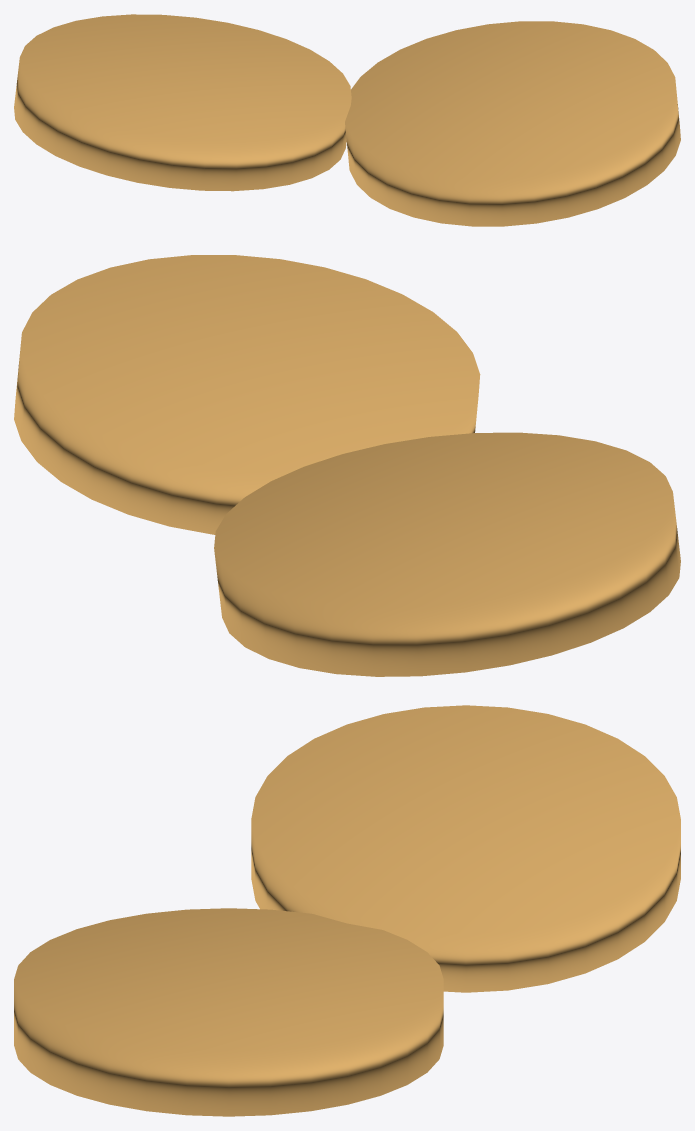
File: sugarpieces.fbx
The picture shows the model from 3 angles, top to bottom: view 1: azimuth 30°, elevation 25°; view 2: azimuth 150°, elevation 25°; view 3: azimuth 270°, elevation 25°; orthographic projection. The views are drawn at different scales.
Parts seen in each view (by area): view 1: Cylinder.028, Cylinder.029; view 2: Cylinder.029, Cylinder.028; view 3: Cylinder.029, Cylinder.028.
Boxes of the visible parts, x1,y1,x2,y2 form: Cylinder.028: (345, 21, 680, 226); Cylinder.029: (14, 14, 351, 191); Cylinder.029: (214, 432, 680, 676); Cylinder.028: (14, 255, 480, 534); Cylinder.029: (251, 705, 680, 992); Cylinder.028: (14, 908, 443, 1116).
Bounding box in the file's own units: 97.63 × 16.53 × 82.76.
